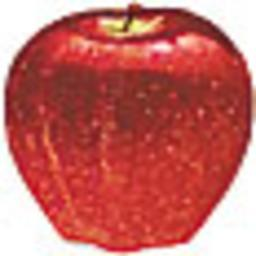apple: (2, 9, 249, 248)
